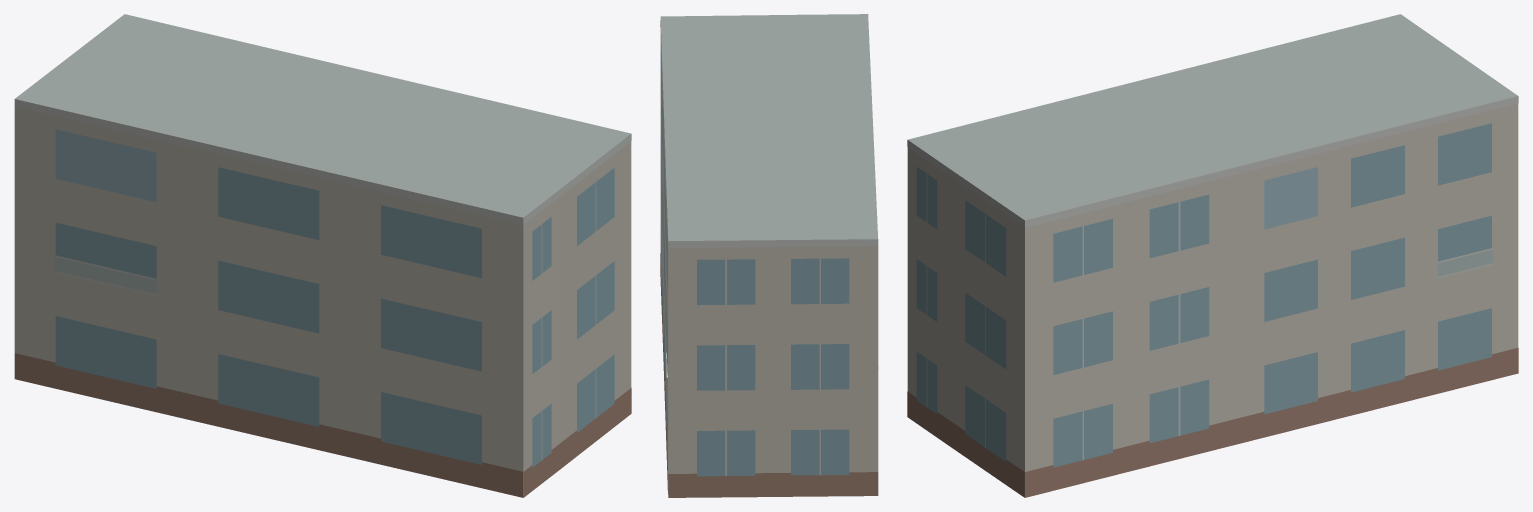
Rendered from survey-upis-32751852.glb.
3 views of the same model, side by side, from view 1: azimuth 30°, elevation 25°; view 2: azimuth 150°, elevation 25°; view 3: azimuth 270°, elevation 25° (orthographic). The views are drawn at different scales.
Parts seen in each view (by area): view 1: survey-upis-32751852.tmp; view 2: survey-upis-32751852.tmp; view 3: survey-upis-32751852.tmp.
Boxes of the visible parts, bbox=[...] form: survey-upis-32751852.tmp: bbox=[14, 14, 631, 497]; survey-upis-32751852.tmp: bbox=[660, 14, 878, 497]; survey-upis-32751852.tmp: bbox=[907, 14, 1518, 497].
Bounding box in the file's own units: 14.61 × 9.15 × 18.27.
